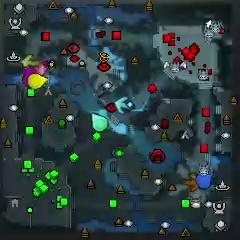p1: (196, 170, 214, 190)
p2: (92, 114, 108, 132)
p3: (21, 66, 39, 88)
p4: (28, 73, 49, 91)
x1: (34, 62, 46, 75)
x2: (21, 52, 41, 68)
x3: (114, 96, 133, 113)
x5: (183, 174, 200, 191)
